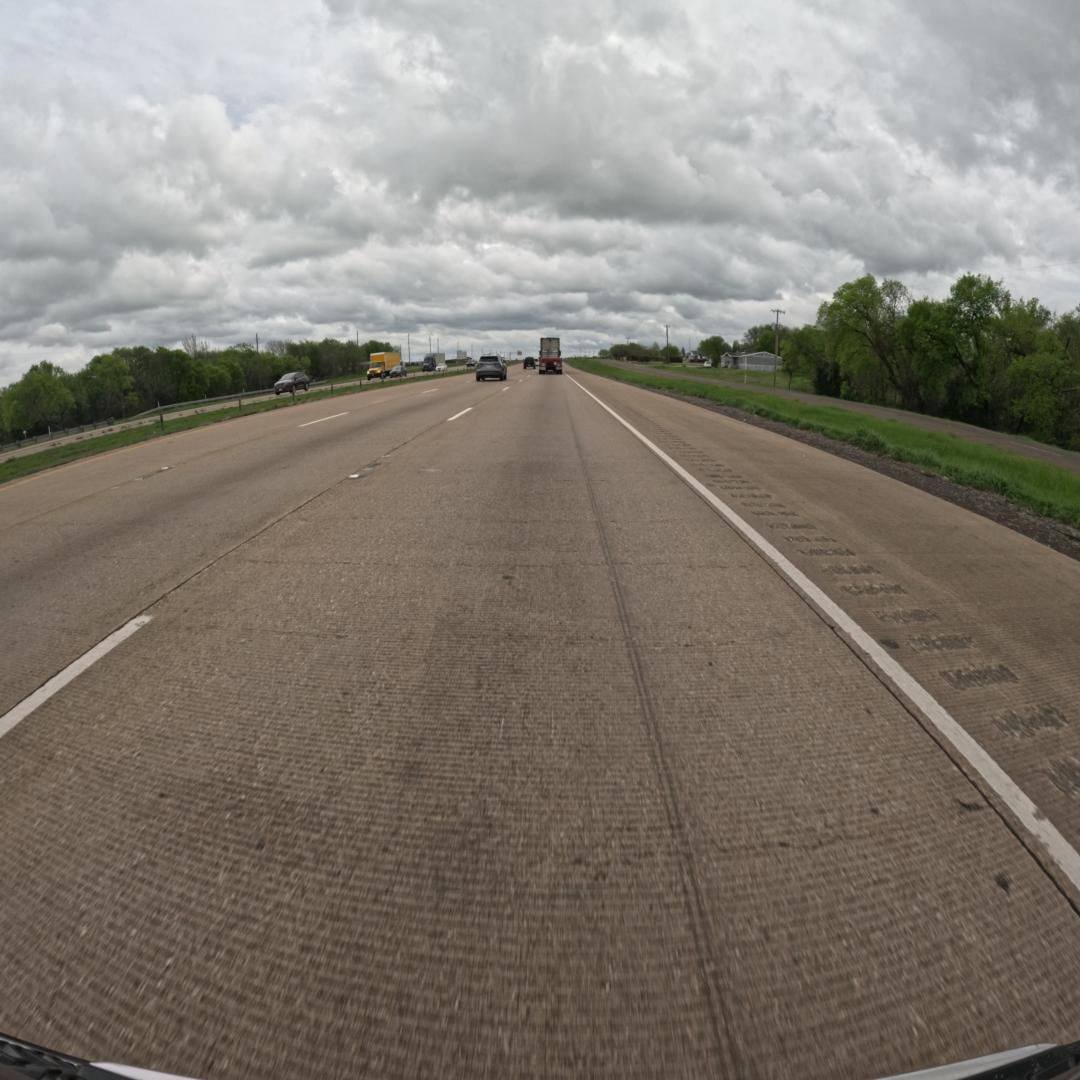lane0: (0, 376, 1080, 1077)
lane1: (0, 377, 506, 715)
